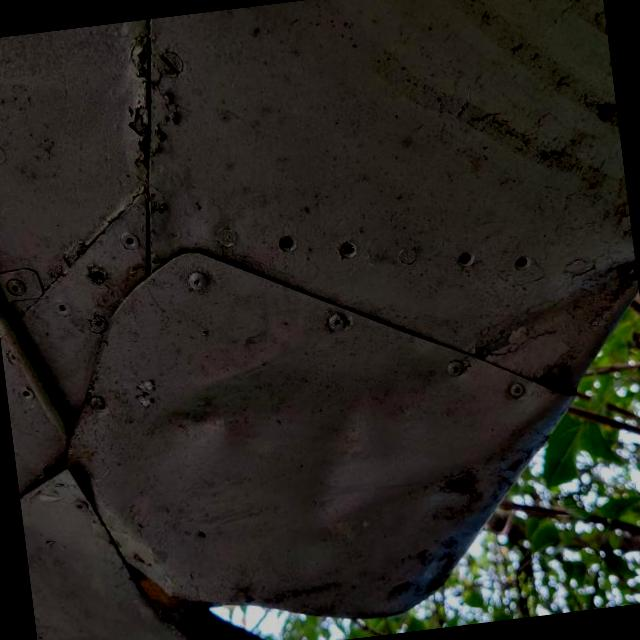dent: (116, 240, 640, 578)
